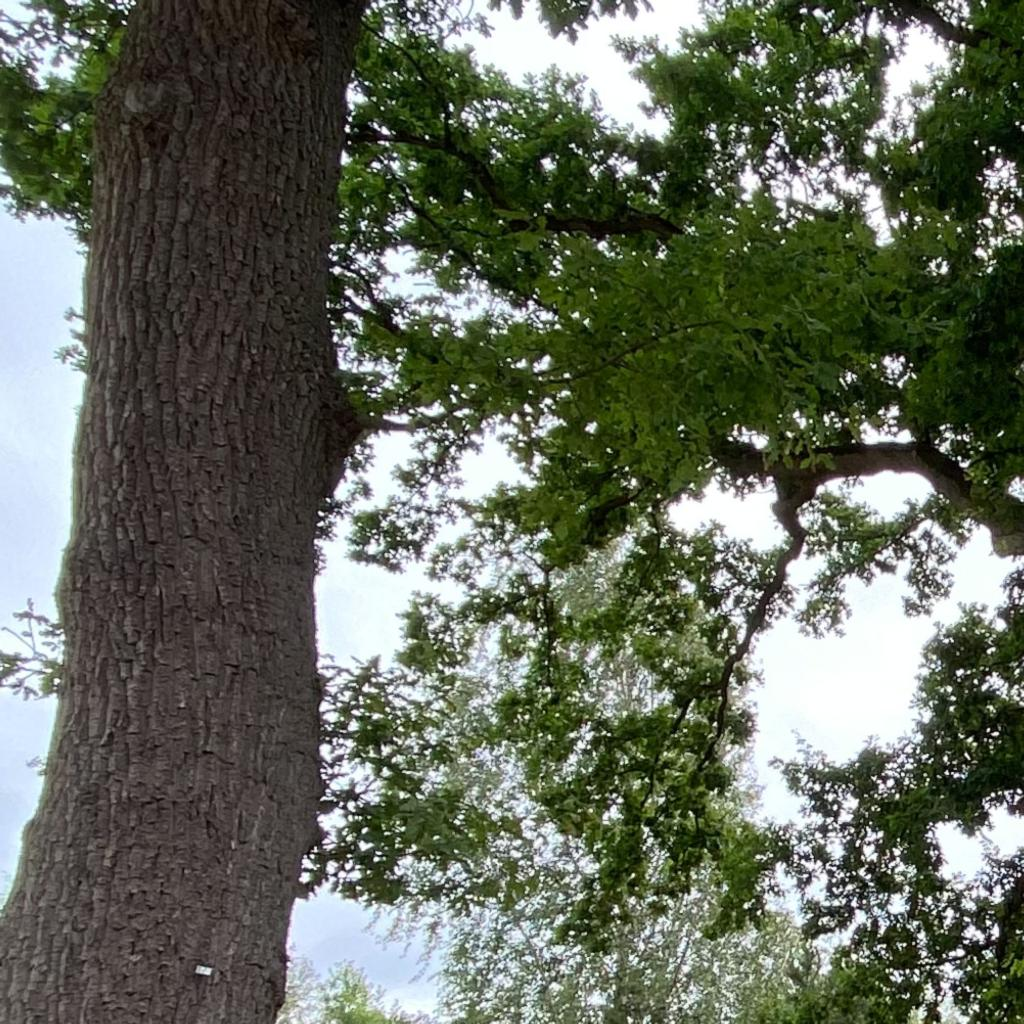tree: (1, 1, 1024, 1024), (1, 1, 373, 1023), (361, 516, 846, 1024)
